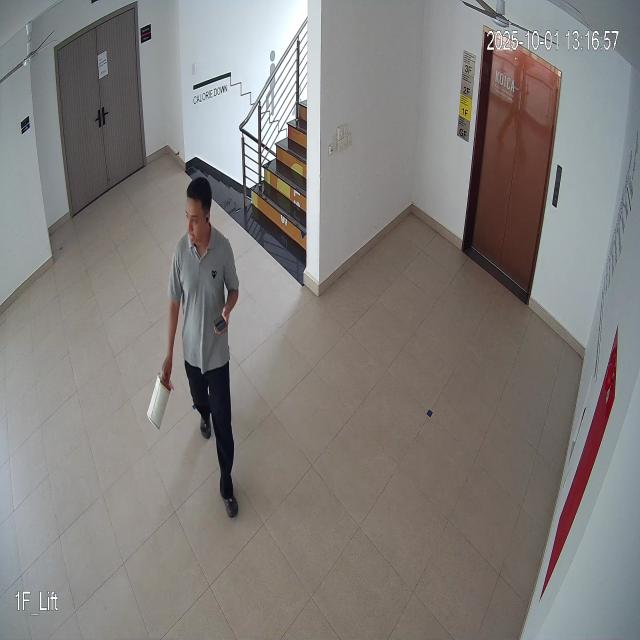face: (182, 174, 215, 255)
